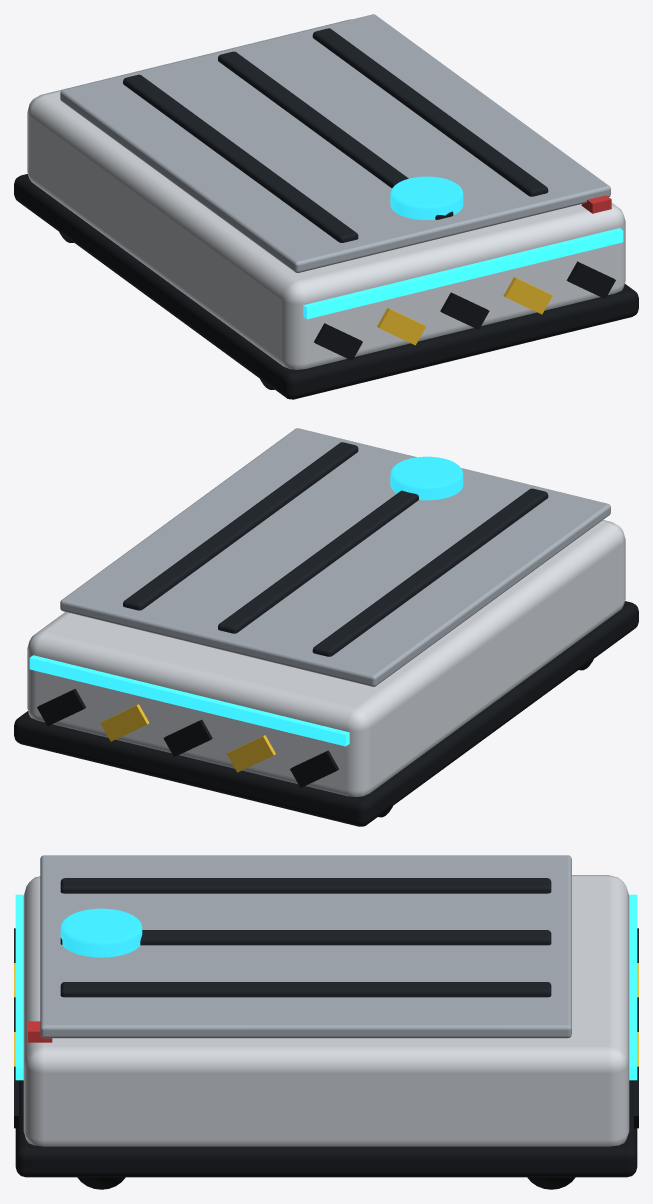
File: agv.glb
3 renders of one model, top to bottom at view 1: azimuth 30°, elevation 25°; view 2: azimuth 150°, elevation 25°; view 3: azimuth 270°, elevation 25°, orthographic. The views are drawn at different scales.
Parts seen in each view (by area): view 1: Deck, Body, Skirt, Roller_0.3, Roller_-0.3, LED_-1, Roller_0, Lidar, Hazard_-1_2, Hazard_-1_3, Hazard_-1_0, Hazard_-1_4 (+1 smaller); view 2: Deck, Body, Skirt, Roller_0.3, Roller_-0.3, LED_1, Roller_0, Lidar, Hazard_1_4, Hazard_1_0, Hazard_1_1, Hazard_1_2 (+1 smaller); view 3: Body, Deck, Skirt, Roller_0.3, Roller_-0.3, Roller_0, Lidar, LED_1, LED_-1.
Part boxes in pixels (x1,y1,x2,y2): Deck: [60, 14, 610, 272]; Body: [27, 19, 625, 369]; Skirt: [14, 174, 638, 399]; Roller_0.3: [312, 28, 548, 196]; Roller_-0.3: [123, 74, 358, 242]; LED_-1: [303, 228, 623, 319]; Roller_0: [218, 51, 453, 219]; Lidar: [390, 176, 463, 220]; Hazard_-1_2: [440, 292, 489, 329]; Hazard_-1_3: [503, 277, 552, 314]; Hazard_-1_0: [314, 323, 362, 360]; Hazard_-1_4: [566, 261, 615, 298]; Deck: [60, 428, 610, 686]; Body: [27, 520, 625, 796]; Skirt: [14, 601, 638, 826]; Roller_0.3: [123, 442, 358, 610]; Roller_-0.3: [312, 488, 548, 656]; LED_1: [29, 655, 349, 746]; Roller_0: [218, 490, 418, 633]; Lidar: [390, 456, 463, 500]; Hazard_1_4: [37, 688, 85, 726]; Hazard_1_0: [290, 750, 338, 787]; Hazard_1_1: [227, 735, 275, 772]; Hazard_1_2: [163, 719, 212, 756]; Body: [23, 875, 629, 1146]; Deck: [40, 855, 571, 1038]; Skirt: [15, 1080, 637, 1177]; Roller_0.3: [60, 982, 551, 997]; Roller_-0.3: [60, 878, 551, 893]; Roller_0: [60, 930, 551, 945]; Lidar: [60, 908, 142, 957]; LED_1: [629, 894, 637, 1080]; LED_-1: [15, 894, 23, 1080].
Bounding box in the file's own units: 1.12 × 0.48 × 1.53.
